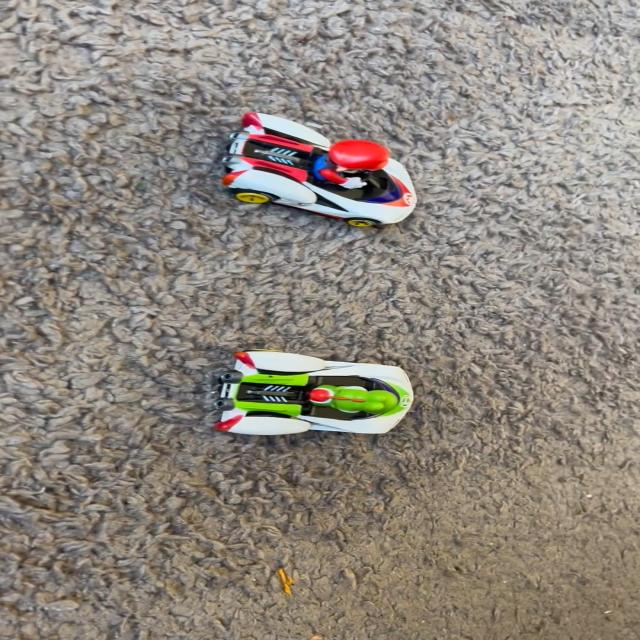mario: (205, 107, 439, 240)
yoshi: (212, 327, 434, 443)
